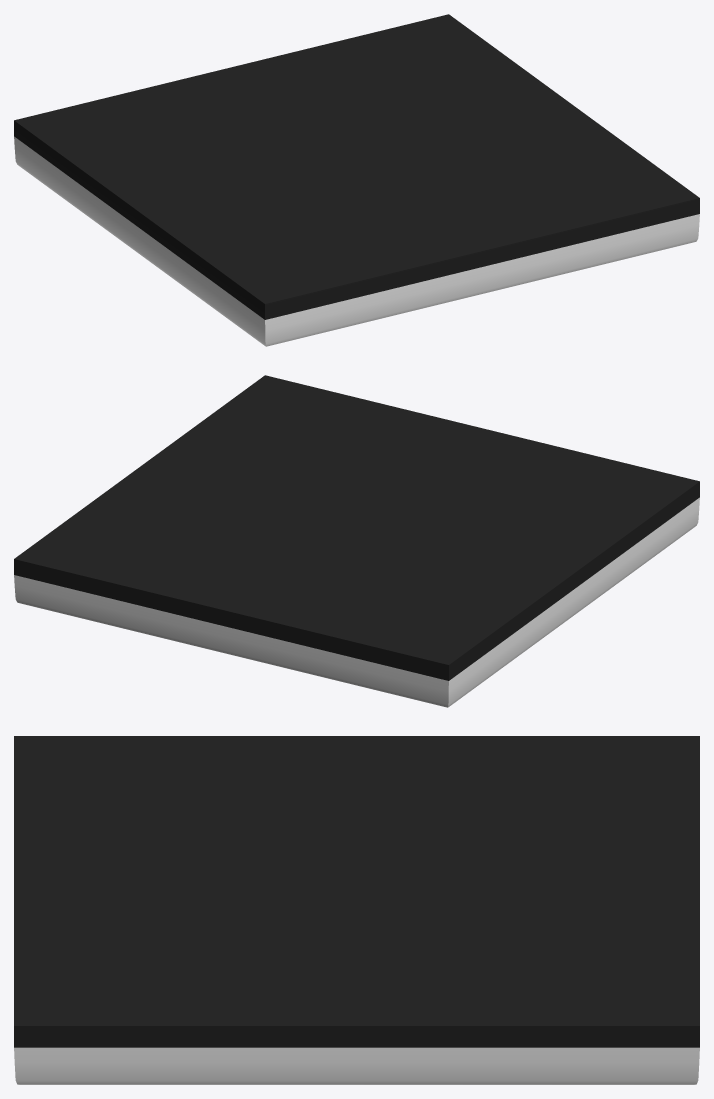
The model's file is Kitchen-Ceiling-2.fbx.
The picture shows the model from 3 angles, top to bottom: view 1: azimuth 30°, elevation 25°; view 2: azimuth 150°, elevation 25°; view 3: azimuth 270°, elevation 25°; orthographic projection. The views are drawn at different scales.
Parts seen in each view (by area): view 1: Kitchen-Ceiling-2; view 2: Kitchen-Ceiling-2; view 3: Kitchen-Ceiling-2.
Boxes of the visible parts, left/top/right/bottom form: Kitchen-Ceiling-2: left=14, top=14, right=699, bottom=346; Kitchen-Ceiling-2: left=14, top=375, right=699, bottom=707; Kitchen-Ceiling-2: left=14, top=736, right=699, bottom=1084.
Size of the model in its own units: 2 by 0.2 by 2.
